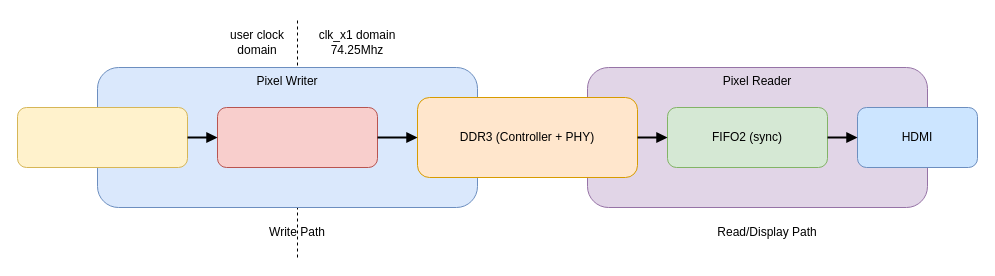
The diagram is 995 pixels wide and 276 high, and some of its shapes have lost their labels. The shapes that lost their labels are listed below. From the top down, each one's centre as x and y in pixels, then its label:
[102,137]: Framebuffer Sink
[297,137]: FIFO1 (async)
